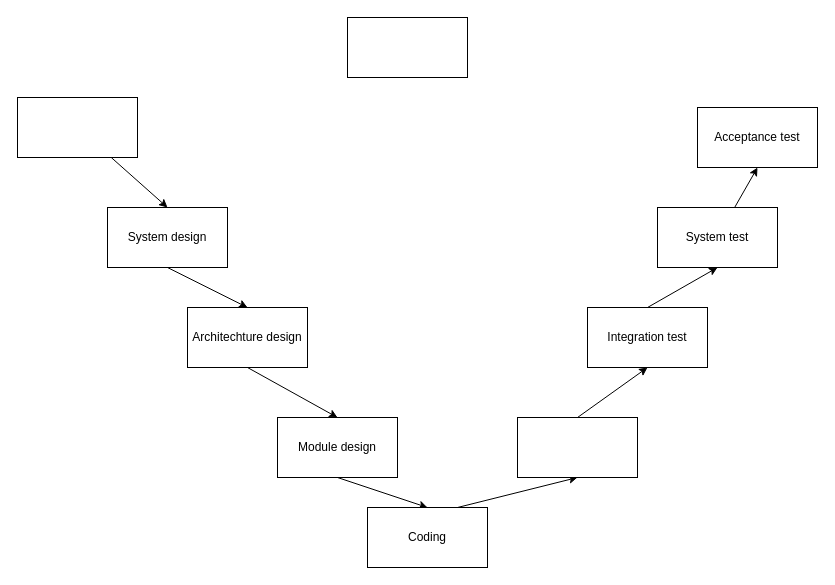
Image size: 835x585. Some labels were removed from this diagram. The centre of each missing label's shape, as x and y in pixels:
"Requirement design" belongs at (x=77, y=127).
"Unit test" belongs at (x=577, y=447).
"V- model" belongs at (x=407, y=47).
